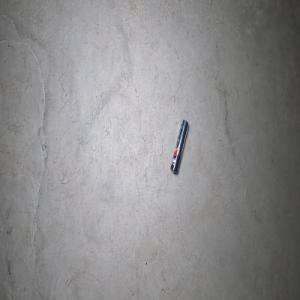Battery: (170, 119, 189, 174)
